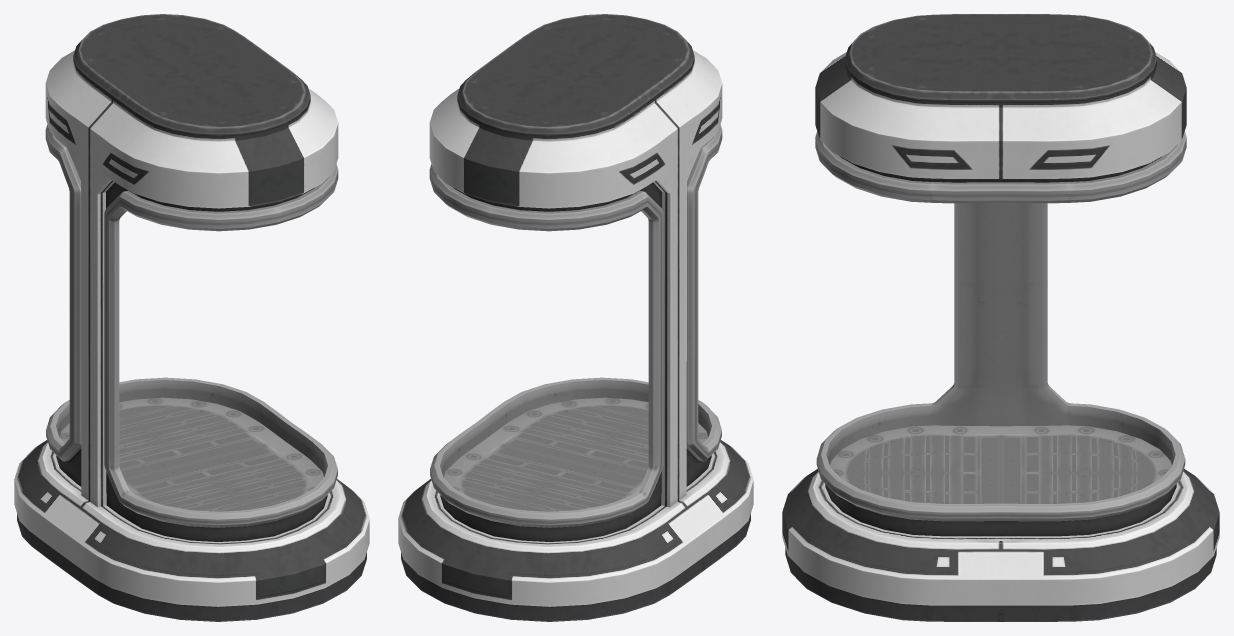
Rendered from SM_LabCapsule02_2_Capsule.FBX.
3 views of the same model, side by side, from view 1: azimuth 30°, elevation 25°; view 2: azimuth 150°, elevation 25°; view 3: azimuth 270°, elevation 25° (orthographic). The views are drawn at different scales.
Parts seen in each view (by area): view 1: SM_LabCapsule02_2_Capsule; view 2: SM_LabCapsule02_2_Capsule; view 3: SM_LabCapsule02_2_Capsule.
Boxes of the visible parts, x1=… form: SM_LabCapsule02_2_Capsule: x1=14, y1=14, x2=369, y2=621; SM_LabCapsule02_2_Capsule: x1=398, y1=14, x2=753, y2=621; SM_LabCapsule02_2_Capsule: x1=782, y1=14, x2=1219, y2=621.
Size of what is drawn, in the model's own units: 188 by 255 by 328.
